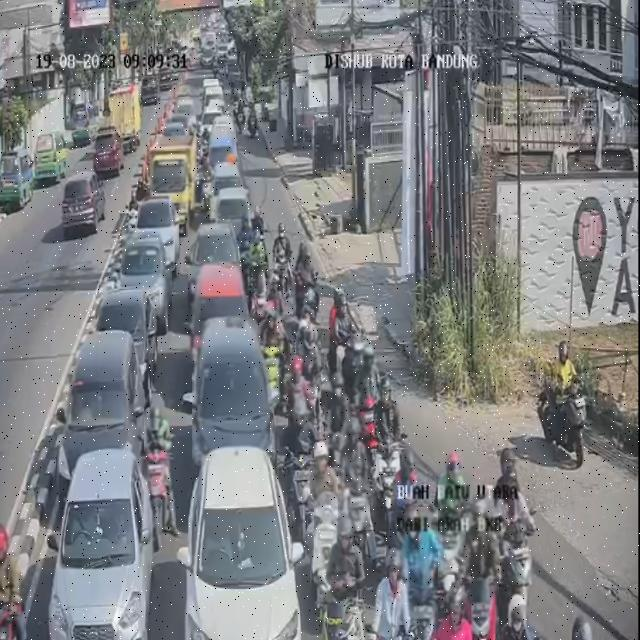cars: (180, 448, 308, 640), (50, 449, 159, 640), (57, 329, 144, 472), (192, 313, 270, 465), (100, 284, 162, 389), (188, 266, 247, 372), (122, 228, 172, 318), (186, 218, 238, 298), (138, 192, 179, 267), (216, 186, 254, 244), (208, 162, 242, 213), (209, 120, 236, 173), (165, 116, 196, 151), (203, 101, 226, 140), (174, 97, 199, 130), (199, 80, 222, 112)
motorcycle: (490, 459, 535, 618), (535, 340, 588, 471), (314, 447, 352, 601), (369, 375, 407, 512), (323, 513, 364, 634), (397, 507, 438, 625), (438, 451, 472, 587), (466, 494, 499, 634), (144, 410, 176, 552), (386, 444, 421, 564), (338, 412, 370, 530), (350, 340, 384, 444), (371, 553, 410, 640), (261, 302, 290, 412), (0, 517, 26, 637), (325, 370, 352, 460), (296, 306, 321, 387), (440, 575, 471, 640), (332, 283, 358, 359), (288, 353, 314, 429), (258, 274, 286, 334), (293, 244, 314, 320), (272, 223, 290, 296), (249, 233, 268, 294), (242, 212, 260, 274), (199, 160, 214, 216)
truck: (150, 138, 197, 218)
